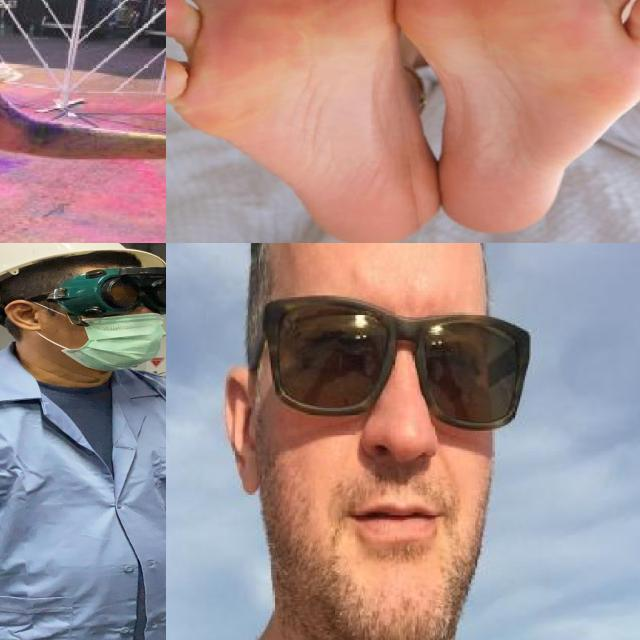Barefoots: (166, 0, 446, 243), (388, 0, 640, 239)
No_Ear-Protection: (222, 362, 268, 498), (6, 300, 75, 349)
face_mask: (39, 314, 166, 371)
face_nomask: (266, 296, 506, 576)
glasses: (242, 294, 534, 439), (46, 268, 166, 324)
head_helmet: (0, 243, 166, 283)
